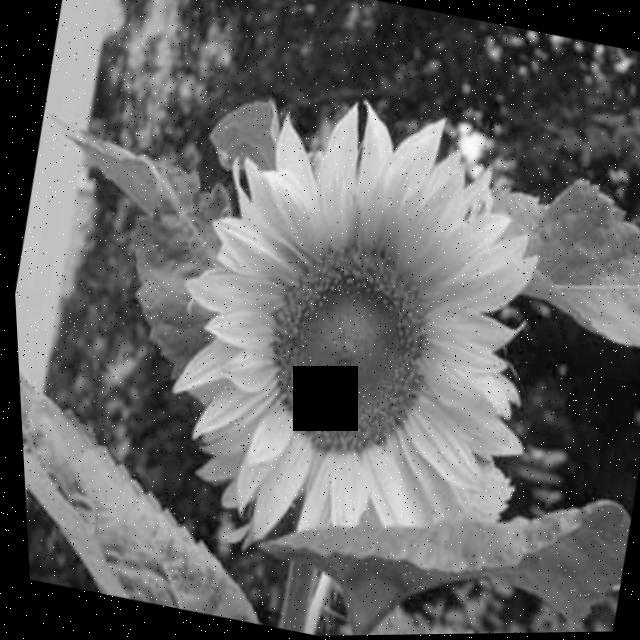sunflower: (130, 28, 572, 600)
